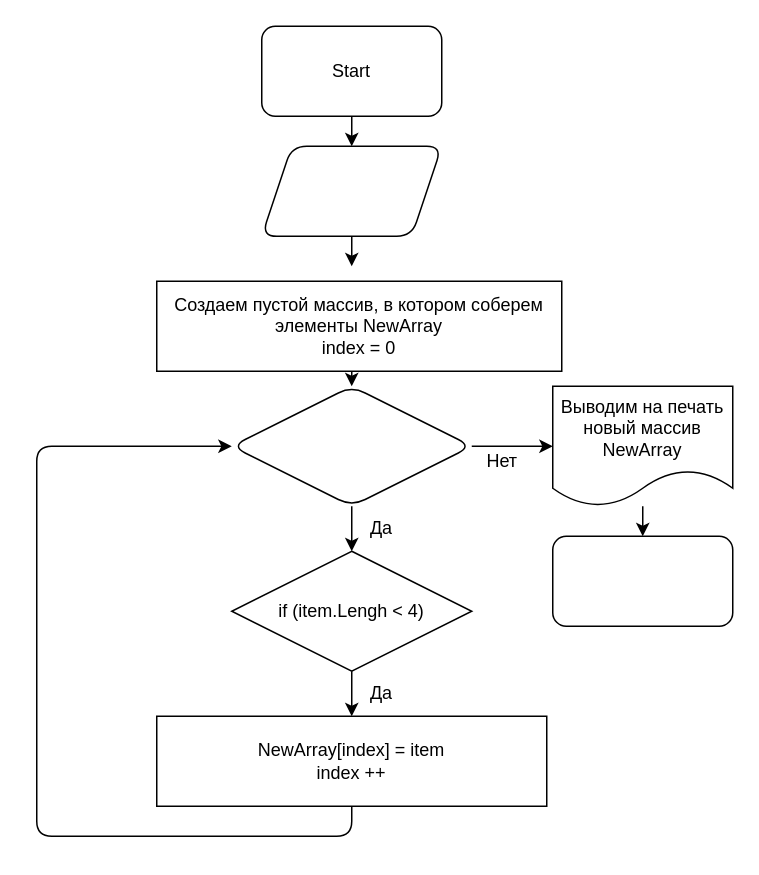
Image size: 759x875. Some labels were removed from this diagram. Each missing label, with the box of its shape:
Finish: (551, 535, 733, 626)
foreach item in GetArray: (230, 385, 472, 506)
Ввод массива пользователем. GetArray: (260, 145, 442, 236)
